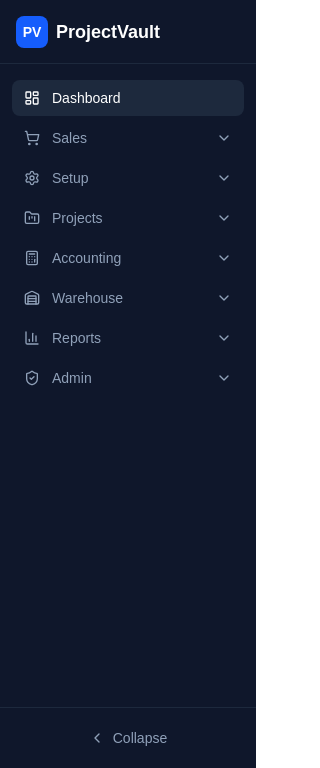
Scenario: Sidebar › expands group when clicking on a section with children
Sales has children (Quotations, Currency Preview)
Click the button "Sales": (128, 138) [12, 120, 244, 156]
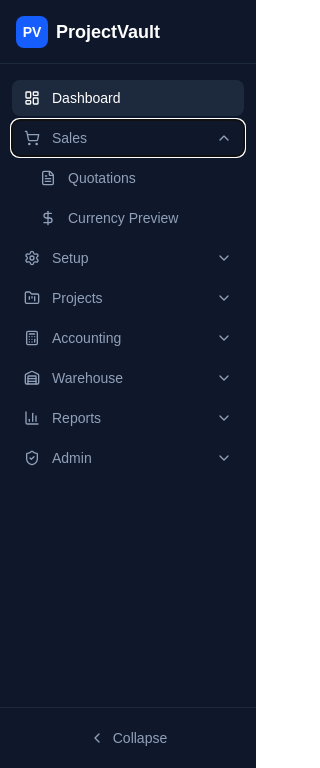
Expected: the text "Quotations" is shown, [68, 168, 136, 188]
Expected: the text "Currency Preview" is shown, [68, 208, 178, 228]
